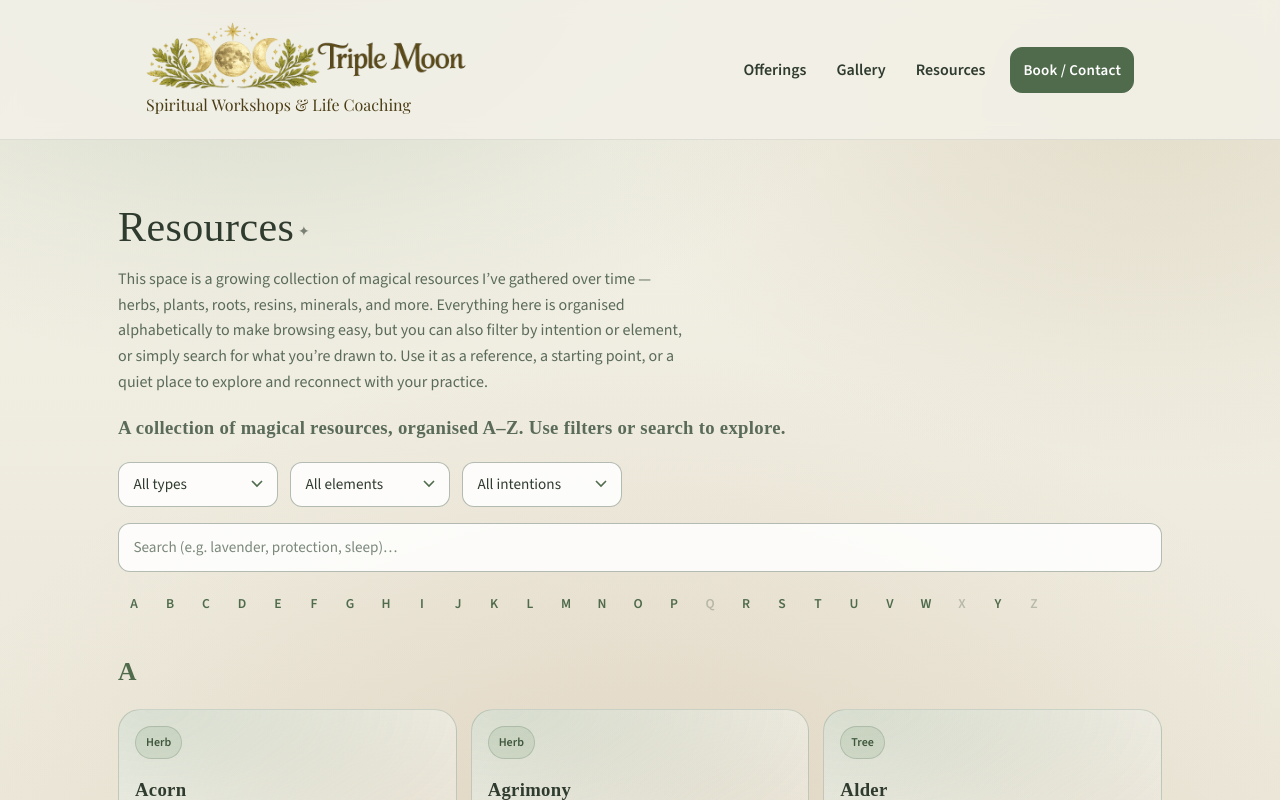
Test: resources load without an API and can be filtered
The width and height of the screenshot is (1280, 800).
Select "Crystal" in the dropdown named "Filter by type" at (198, 484), box [118,462,278,507]
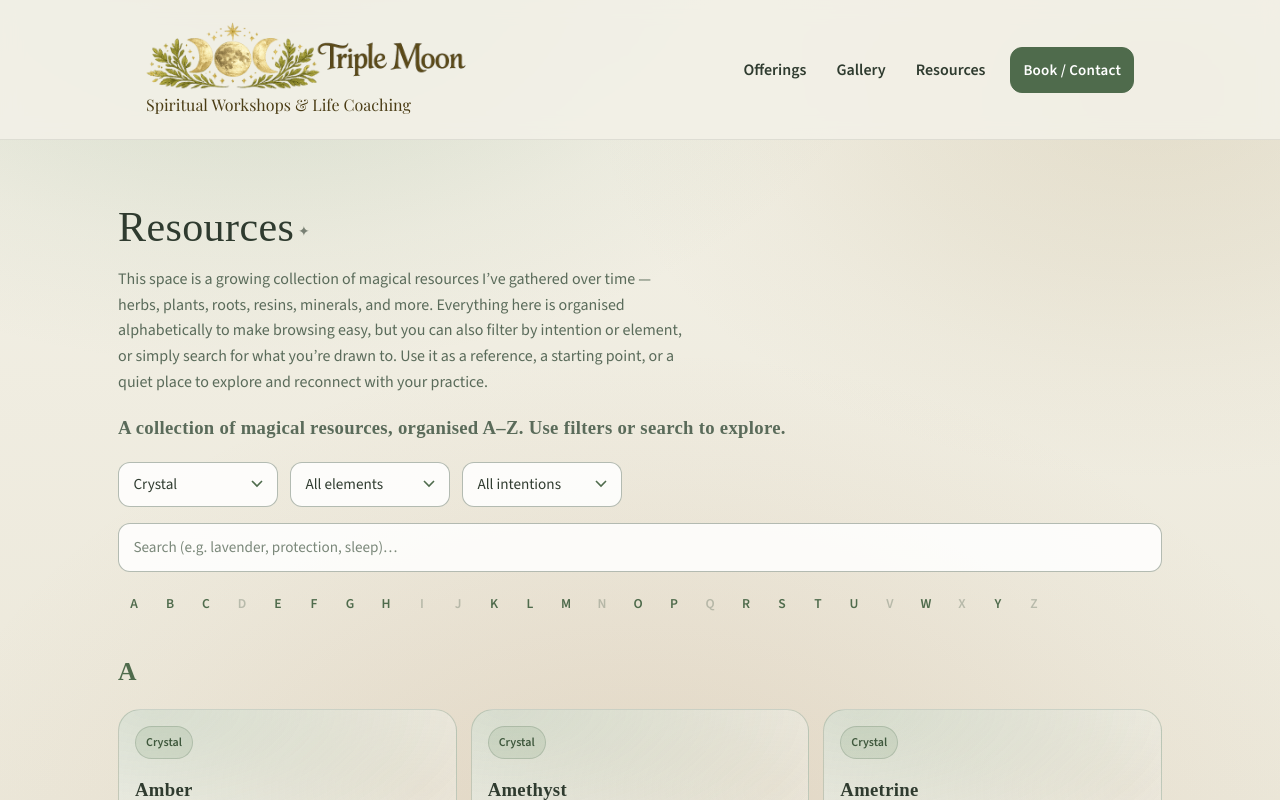
Select "All types" in the dropdown named "Filter by type" at (198, 484), box [118,462,278,507]
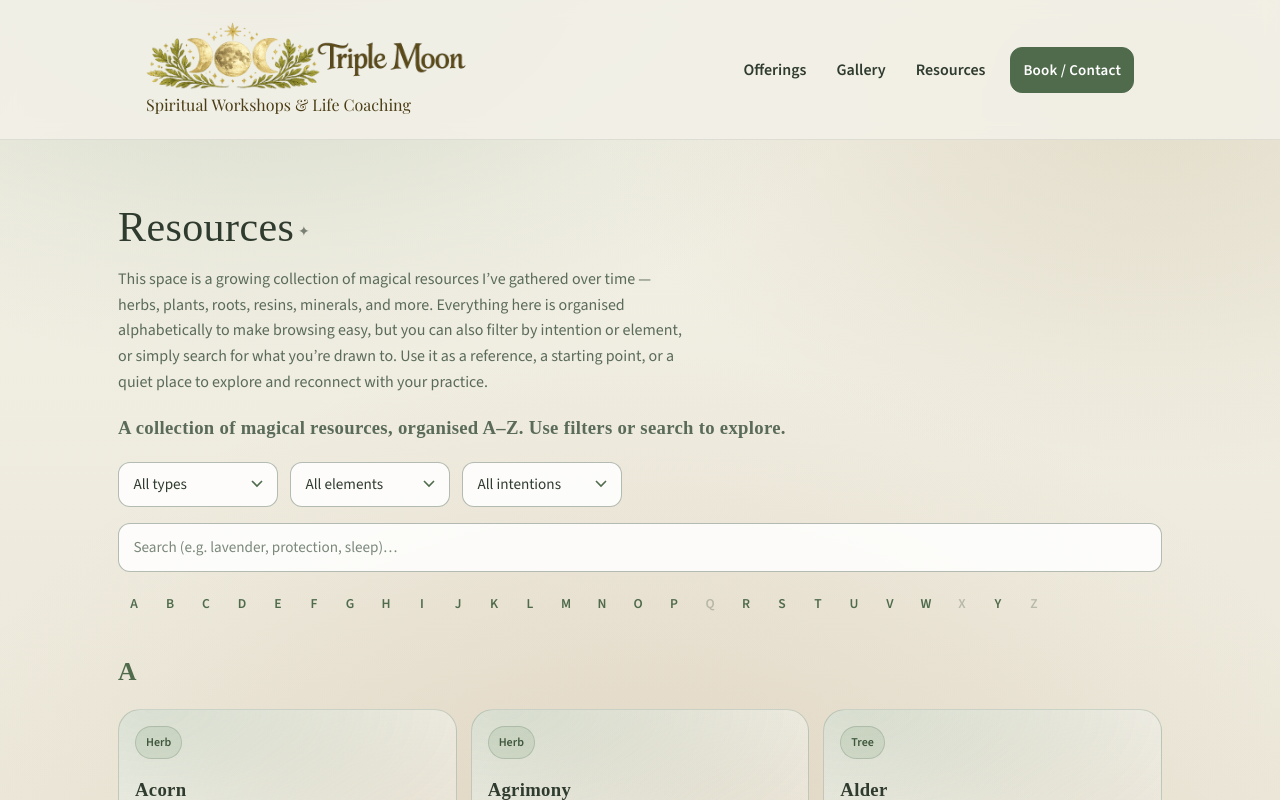
Select "Protection" in the dropdown named "Filter by intention" at (542, 484), box [462,462,622,507]
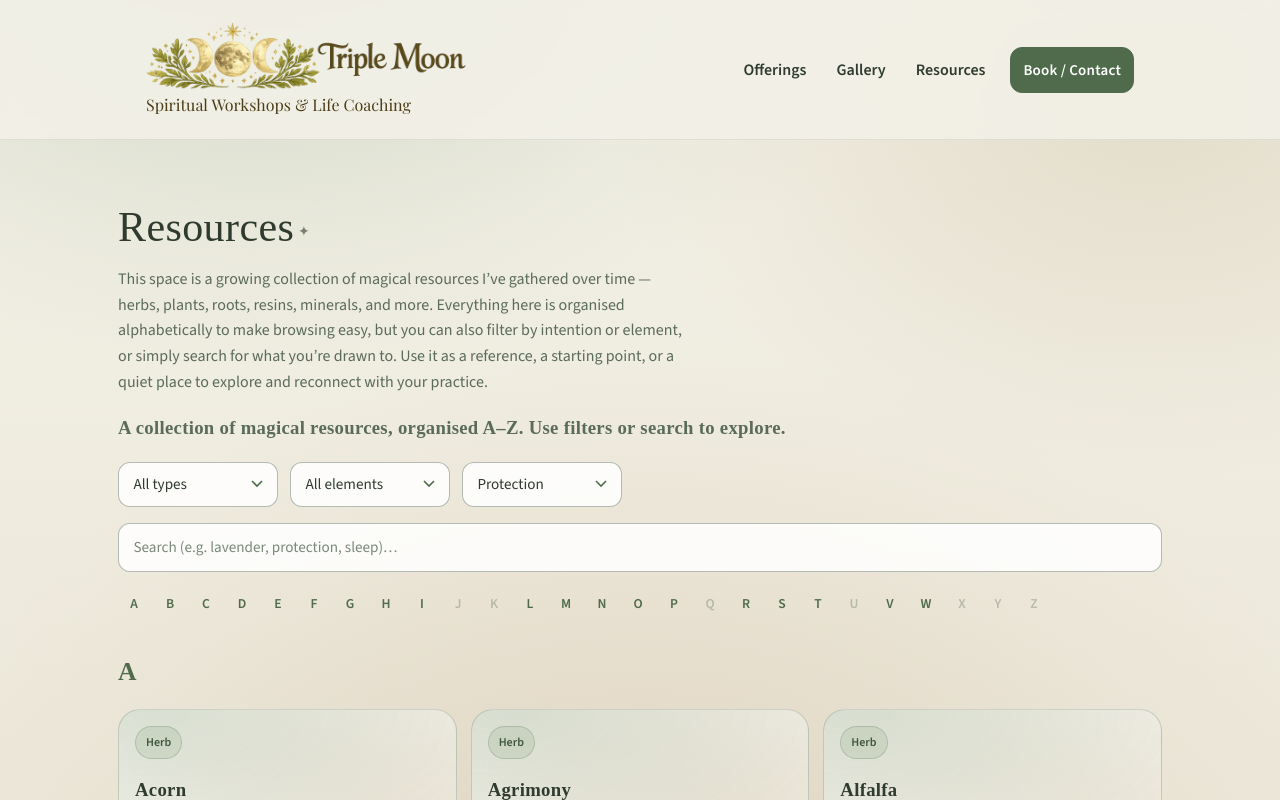
Type "zzzz-no-match" into the field named "Search resources" at (640, 547), box [118,523,1162,572]
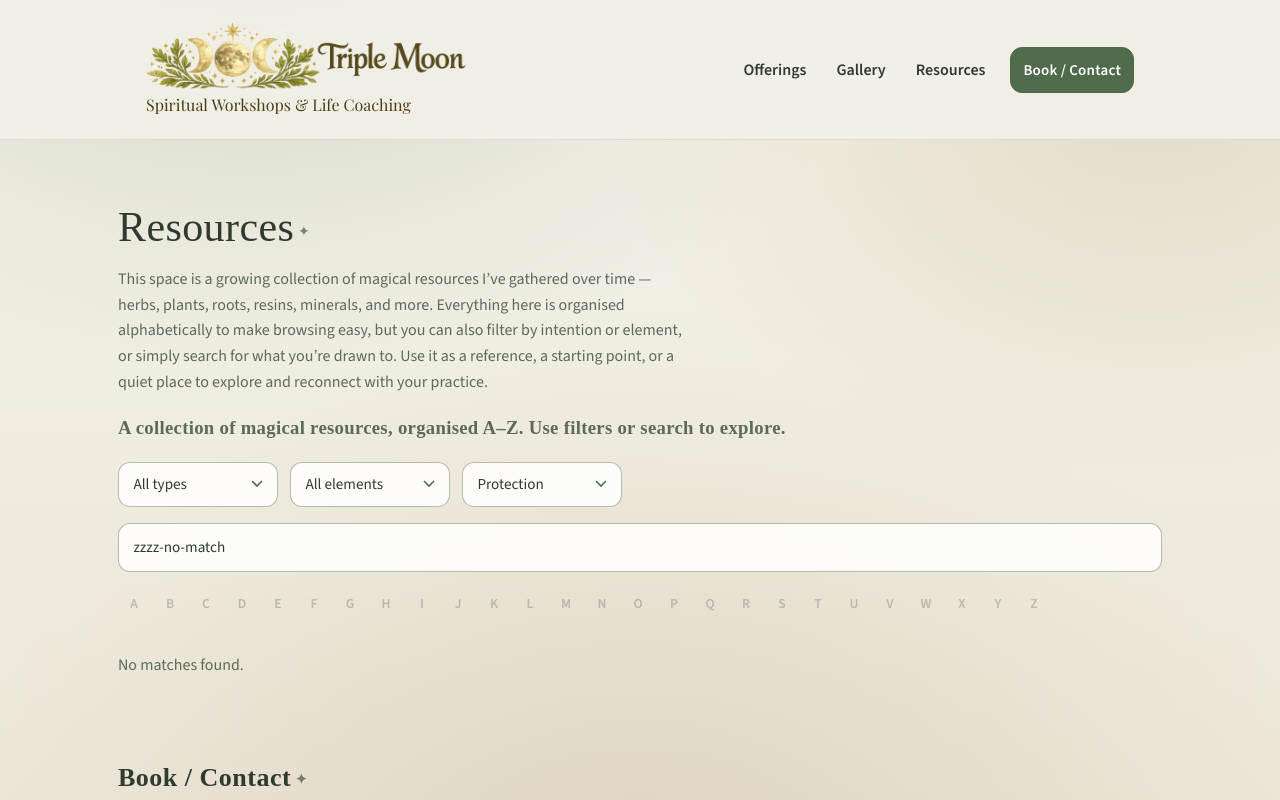
Expected: the text "No matches found." is shown, [118,654,244,675]
